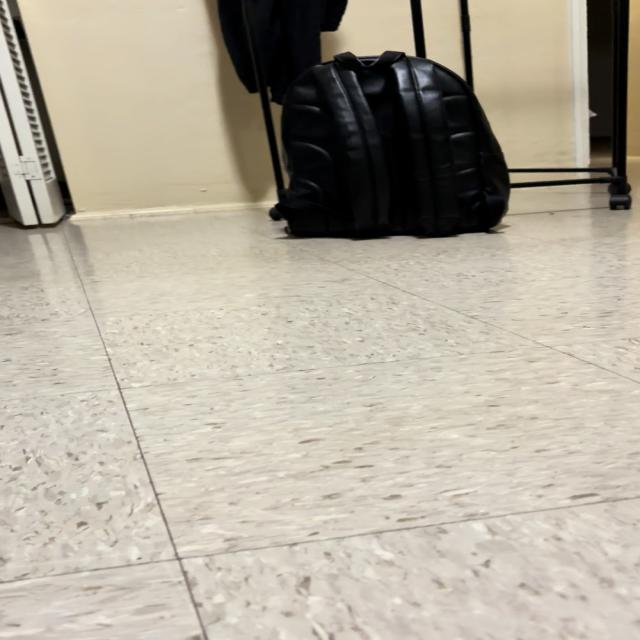backpack: (277, 51, 509, 237)
